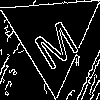M: (27, 11, 81, 72)
